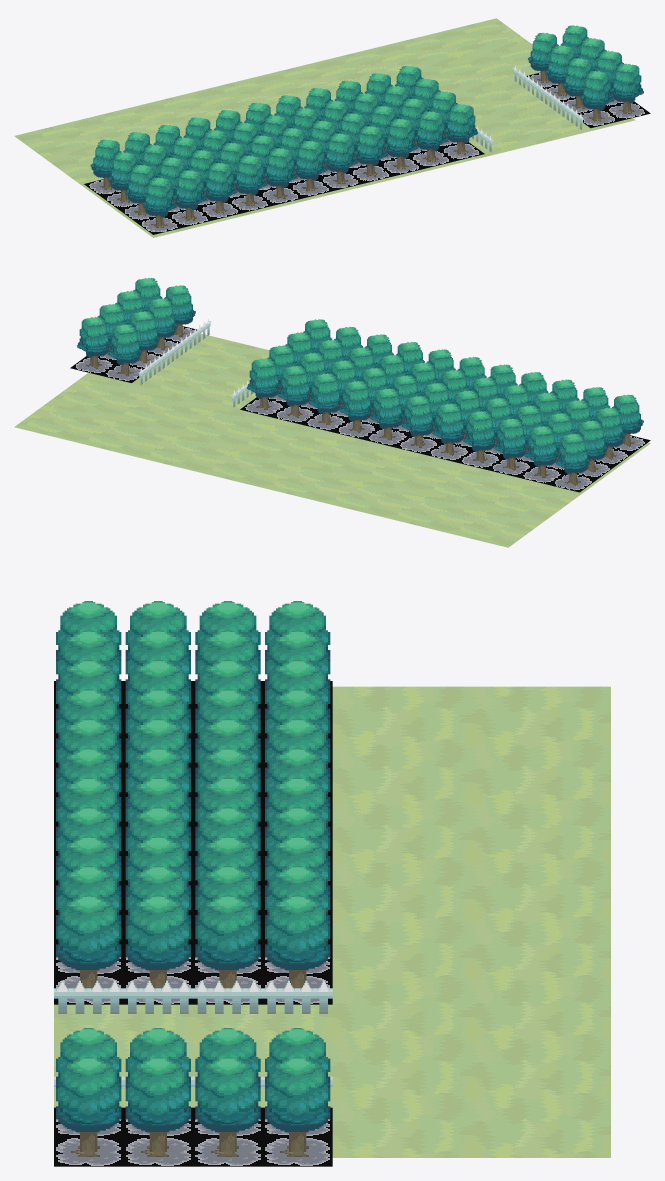
3 views of the same model, one above another, from view 1: azimuth 30°, elevation 25°; view 2: azimuth 150°, elevation 25°; view 3: azimuth 270°, elevation 25° (orthographic). The views are drawn at different scales.
Parts seen in each view (by area): view 1: polygon3, polygon0, polygon4, polygon2, polygon5, polygon1; view 2: polygon0, polygon3, polygon4, polygon2, polygon5, polygon1; view 3: polygon0, polygon3, polygon4, polygon2, polygon5, polygon1.
Part boxes in pixels (bbox=[...]): polygon3: bbox=[93, 25, 641, 226]; polygon0: bbox=[14, 18, 635, 237]; polygon4: bbox=[84, 72, 650, 234]; polygon2: bbox=[97, 25, 636, 186]; polygon5: bbox=[90, 54, 643, 212]; polygon1: bbox=[472, 65, 583, 151]; polygon0: bbox=[14, 333, 650, 547]; polygon3: bbox=[79, 278, 640, 483]; polygon4: bbox=[70, 326, 650, 492]; polygon2: bbox=[84, 278, 636, 442]; polygon5: bbox=[77, 307, 643, 469]; polygon1: bbox=[138, 319, 253, 407]; polygon0: bbox=[54, 686, 610, 1157]; polygon3: bbox=[56, 602, 330, 1151]; polygon4: bbox=[54, 681, 332, 1166]; polygon2: bbox=[67, 601, 319, 1075]; polygon5: bbox=[56, 656, 330, 1126]; polygon1: bbox=[54, 980, 332, 1086].
Size of the model in its own units: 8.25 by 0.875 by 4.
